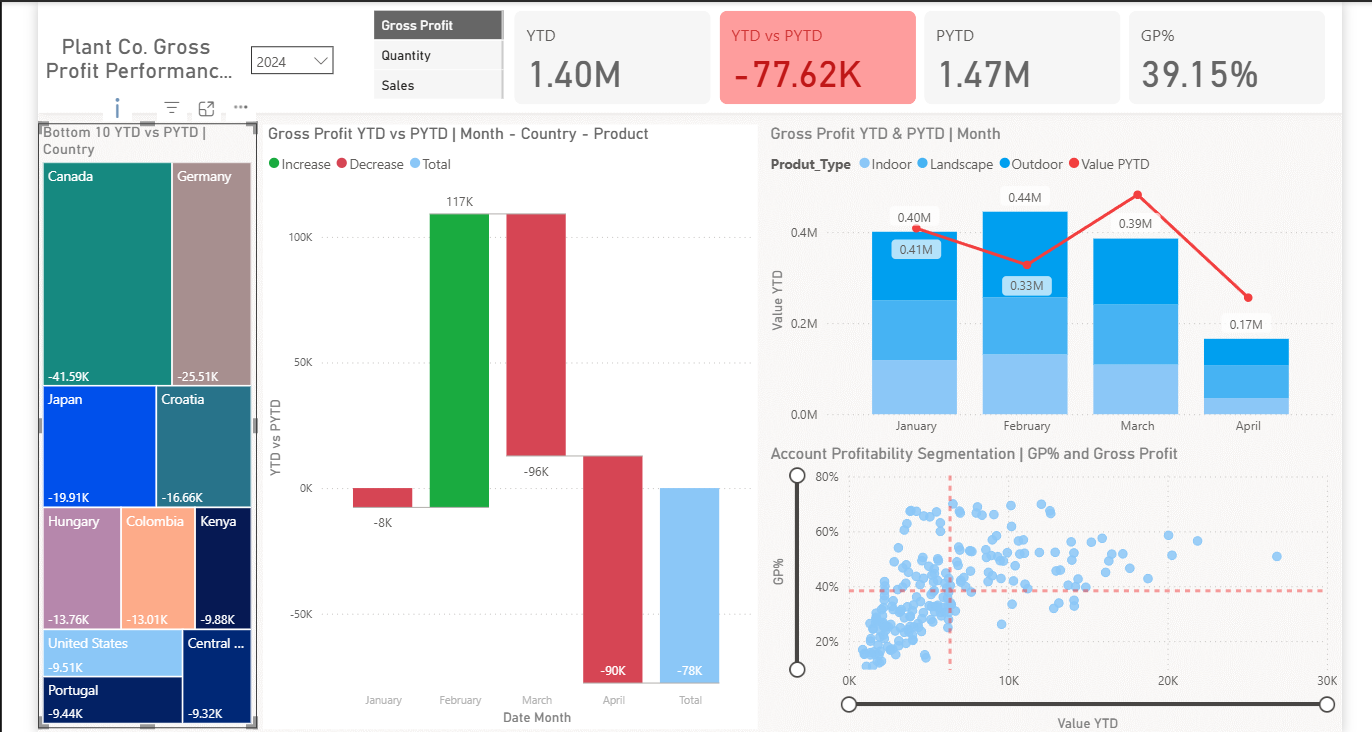

Layout of this report page (visuals, bound fields, positions):
{"tool":"powerbi","page":{"name":"Performance Report","canvas":[1280,720],"ordinal":0},"visuals":[{"type":"cardVisual","fields":{"Data":["_Measures.S_YTD","_Measures.YTD vs PYTD","_Measures.S_PYTD","_Measures.GP%"]},"box":[463,4.2,806.2,102.1],"z":0},{"type":"advancedSlicerVisual","fields":{"Values":["Slc_Values.Values"]},"box":[325.2,3.7,137.4,98.2],"z":1000},{"type":"slicer","fields":{"Values":["Dim_Date.Date.Variation.Date Hierarchy.Year"]},"box":[198.4,32.7,101.3,50.2],"z":2000},{"type":"treemap","title":"Bottom 10 YTD vs PYTD | Country","fields":{"Values":["_Measures.YTD vs PYTD"],"Group":["Dim_Account.country"]},"box":[0,118.7,214.6,594.4],"z":3000},{"type":"waterfallChart","fields":{"Y":["_Measures.YTD vs PYTD"],"Category":["Dim_Date.Date.Variation.Date Hierarchy.Month","Dim_Account.country","Dim_Product.Produt_Type","Dim_Product.Product_Name"]},"box":[220.3,119.6,485.2,593.5],"z":4000},{"type":"lineStackedColumnComboChart","fields":{"Y":["_Measures.S_YTD"],"Y2":["_Measures.S_PYTD"],"Category":["Dim_Date.Date.Variation.Date Hierarchy.Quarter","Dim_Date.Date.Variation.Date Hierarchy.Month"],"Series":["Dim_Product.Produt_Type"]},"box":[714.1,119.6,565.9,314.3],"z":5000},{"type":"scatterChart","fields":{"Y":["_Measures.GP%"],"X":["_Measures.S_YTD"],"Category":["Dim_Account.Account"]},"box":[714.1,433.9,565.9,285.8],"z":6000},{"type":"card","fields":{"Values":["_Measures._Report title"]},"box":[0,20.9,198.5,68.4],"z":7000}]}

Visuals, with their boxes on the page's 1280x720 design canvas (x1, y1, x2, y2). These are canvas units, not pixel positions in the 1372x732 screenshot, which may show the page scaled, cropped or inside an application window:
cardVisual - _Measures.S_YTD x _Measures.YTD vs PYTD: locate(463, 4, 1269, 106)
advancedSlicerVisual - Slc_Values.Values: locate(325, 4, 463, 102)
slicer - Dim_Date.Date.Variation.Date Hierarchy.Year: locate(198, 33, 300, 83)
"Bottom 10 YTD vs PYTD | Country" treemap: locate(0, 119, 215, 713)
waterfallChart - _Measures.YTD vs PYTD x Dim_Date.Date.Variation.Date Hierarchy.Month: locate(220, 120, 706, 713)
lineStackedColumnComboChart - _Measures.S_YTD x _Measures.S_PYTD: locate(714, 120, 1280, 434)
scatterChart - _Measures.GP% x _Measures.S_YTD: locate(714, 434, 1280, 720)
card - _Measures._Report title: locate(0, 21, 198, 89)
